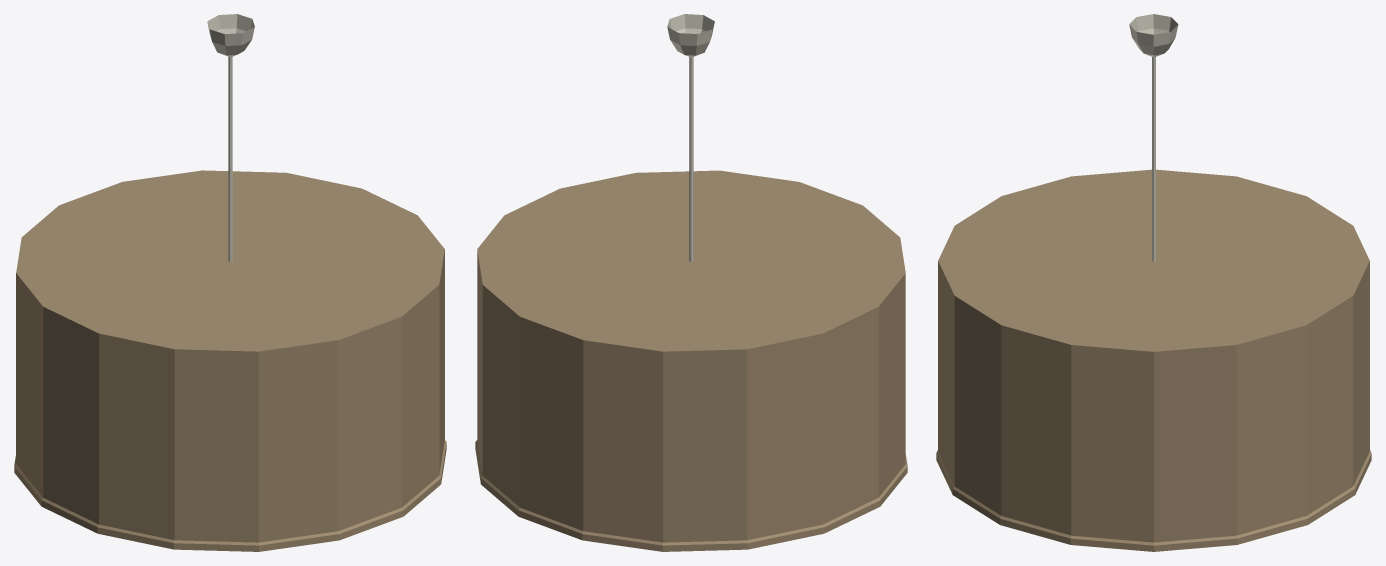
Rendered from LampadaSoffitto.fbx.
3 renders of one model, left to right at view 1: azimuth 30°, elevation 25°; view 2: azimuth 150°, elevation 25°; view 3: azimuth 270°, elevation 25°, orthographic.
Parts seen in each view (by area): view 1: Circle; view 2: Circle; view 3: Circle.
Part boxes in pixels (box(x1,y1,x2,y2)): Circle: box(14, 14, 446, 551); Circle: box(475, 14, 907, 551); Circle: box(936, 14, 1371, 551).
Bounding box in the file's own units: 202 × 223 × 202.
